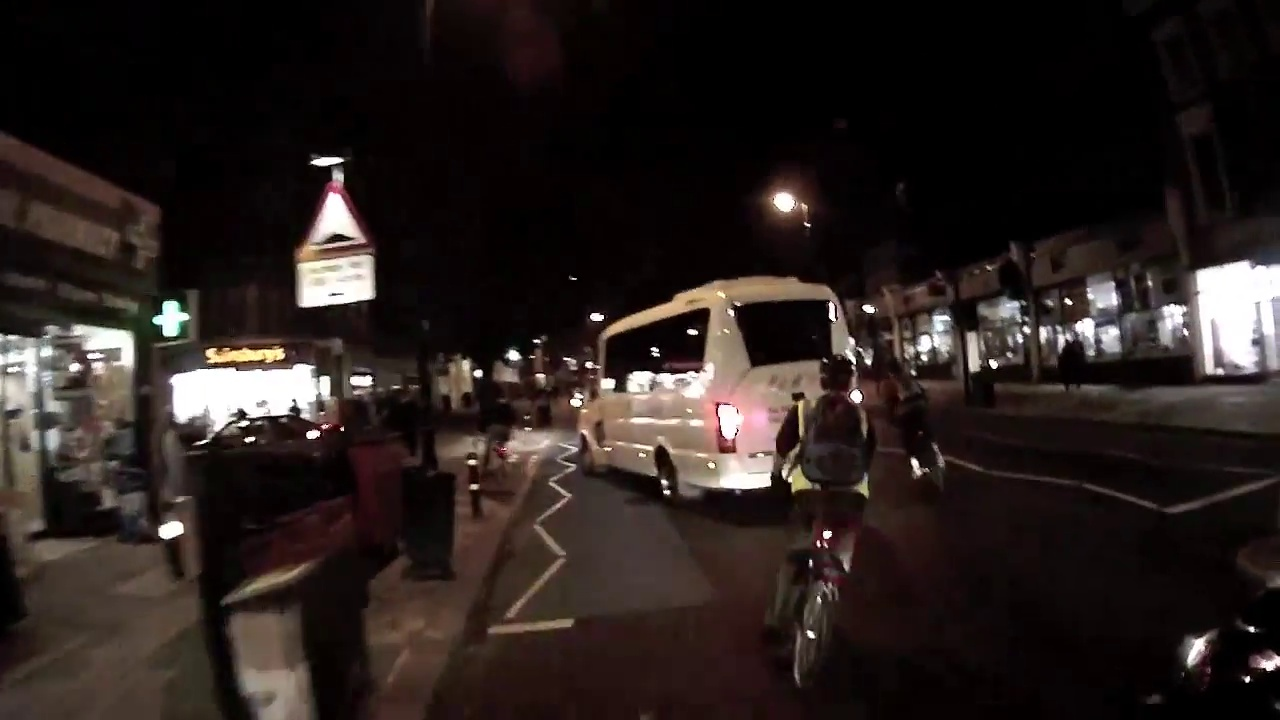cyclist_back: (759, 348, 869, 705), (879, 352, 949, 489)
